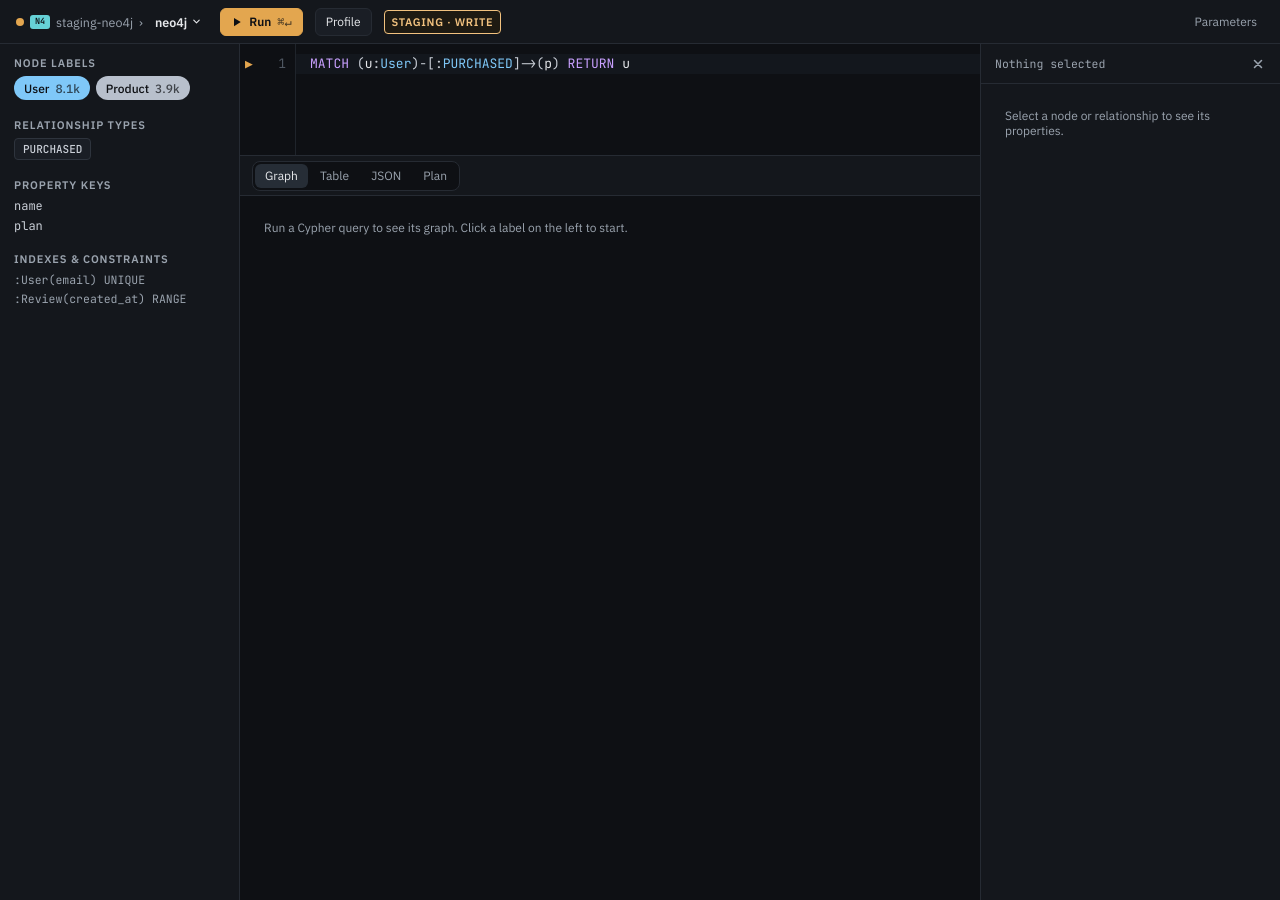
Scenario: Table, JSON and Plan views (spec: graph-browser › Table, JSON and Plan views) › profiles a query and highlights the highest db hits (spec: graph-browser › Profile)
The image size is (1280, 900).
Expected: the button "User 8.1k" is shown, left=14, top=76, right=90, bottom=100
Click the button "Profile". click: x=343, y=22
box: left=315, top=8, right=372, bottom=36
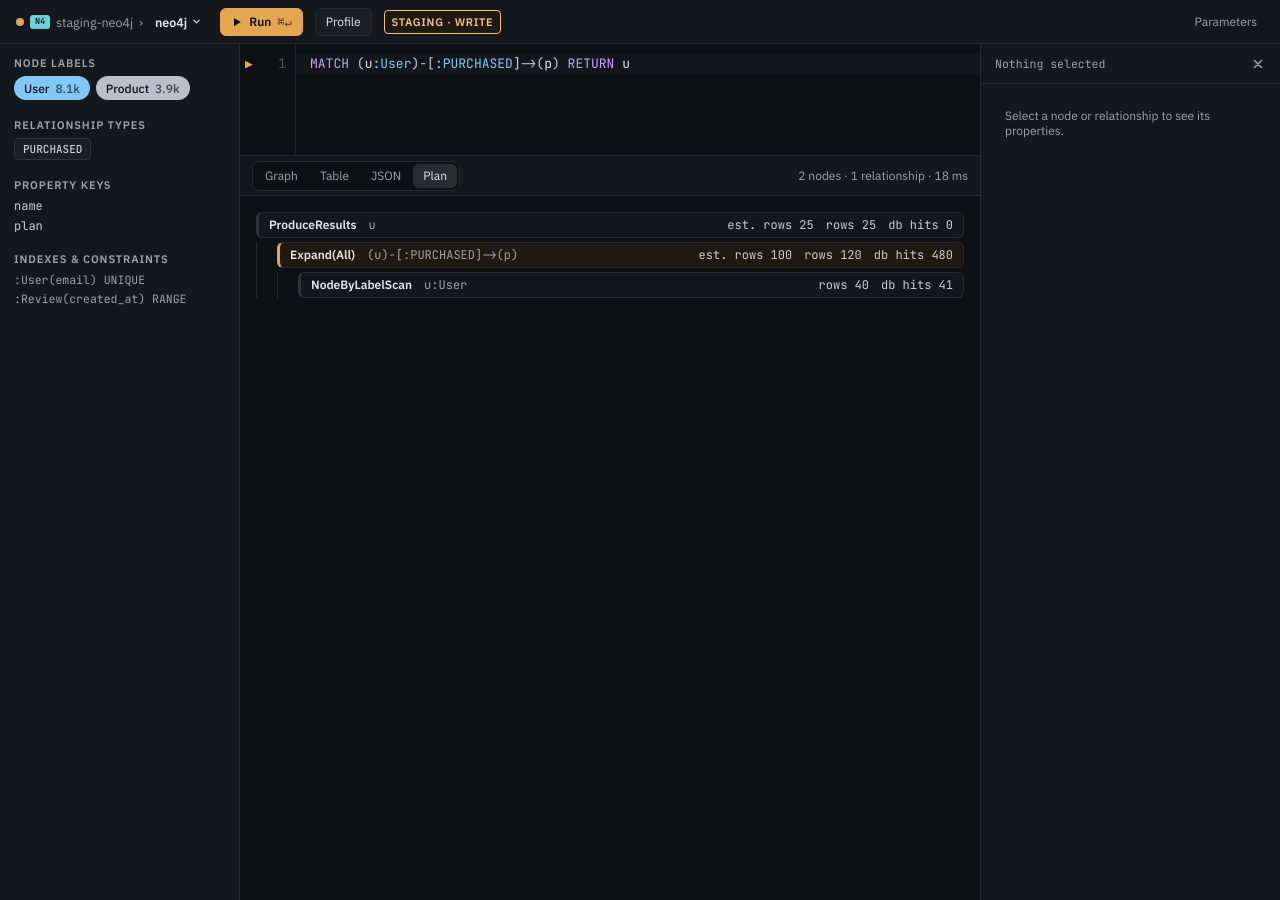
Expected: the text "plan" is shown, left=14, top=218, right=43, bottom=234
Expected: the element with test id "plan-operator" shows "db hits 480", left=277, top=242, right=964, bottom=268
Expected: the element with test id "plan-operator" shows "rows 120", left=277, top=242, right=964, bottom=268
